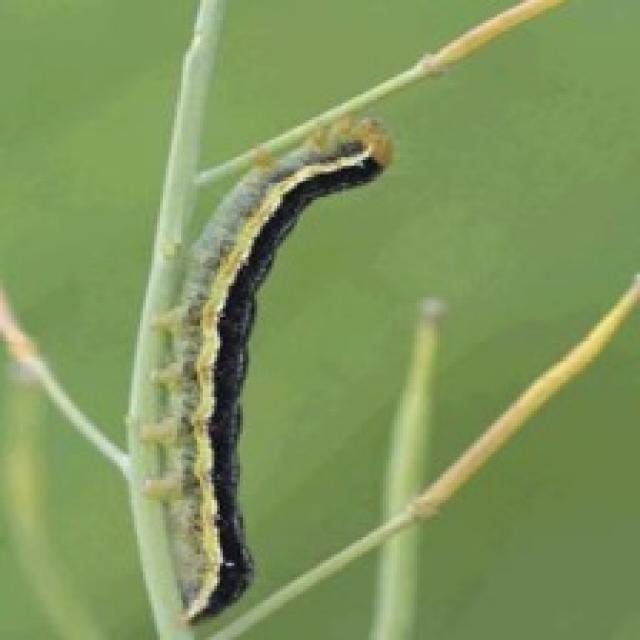Plaga: (132, 107, 401, 630)
